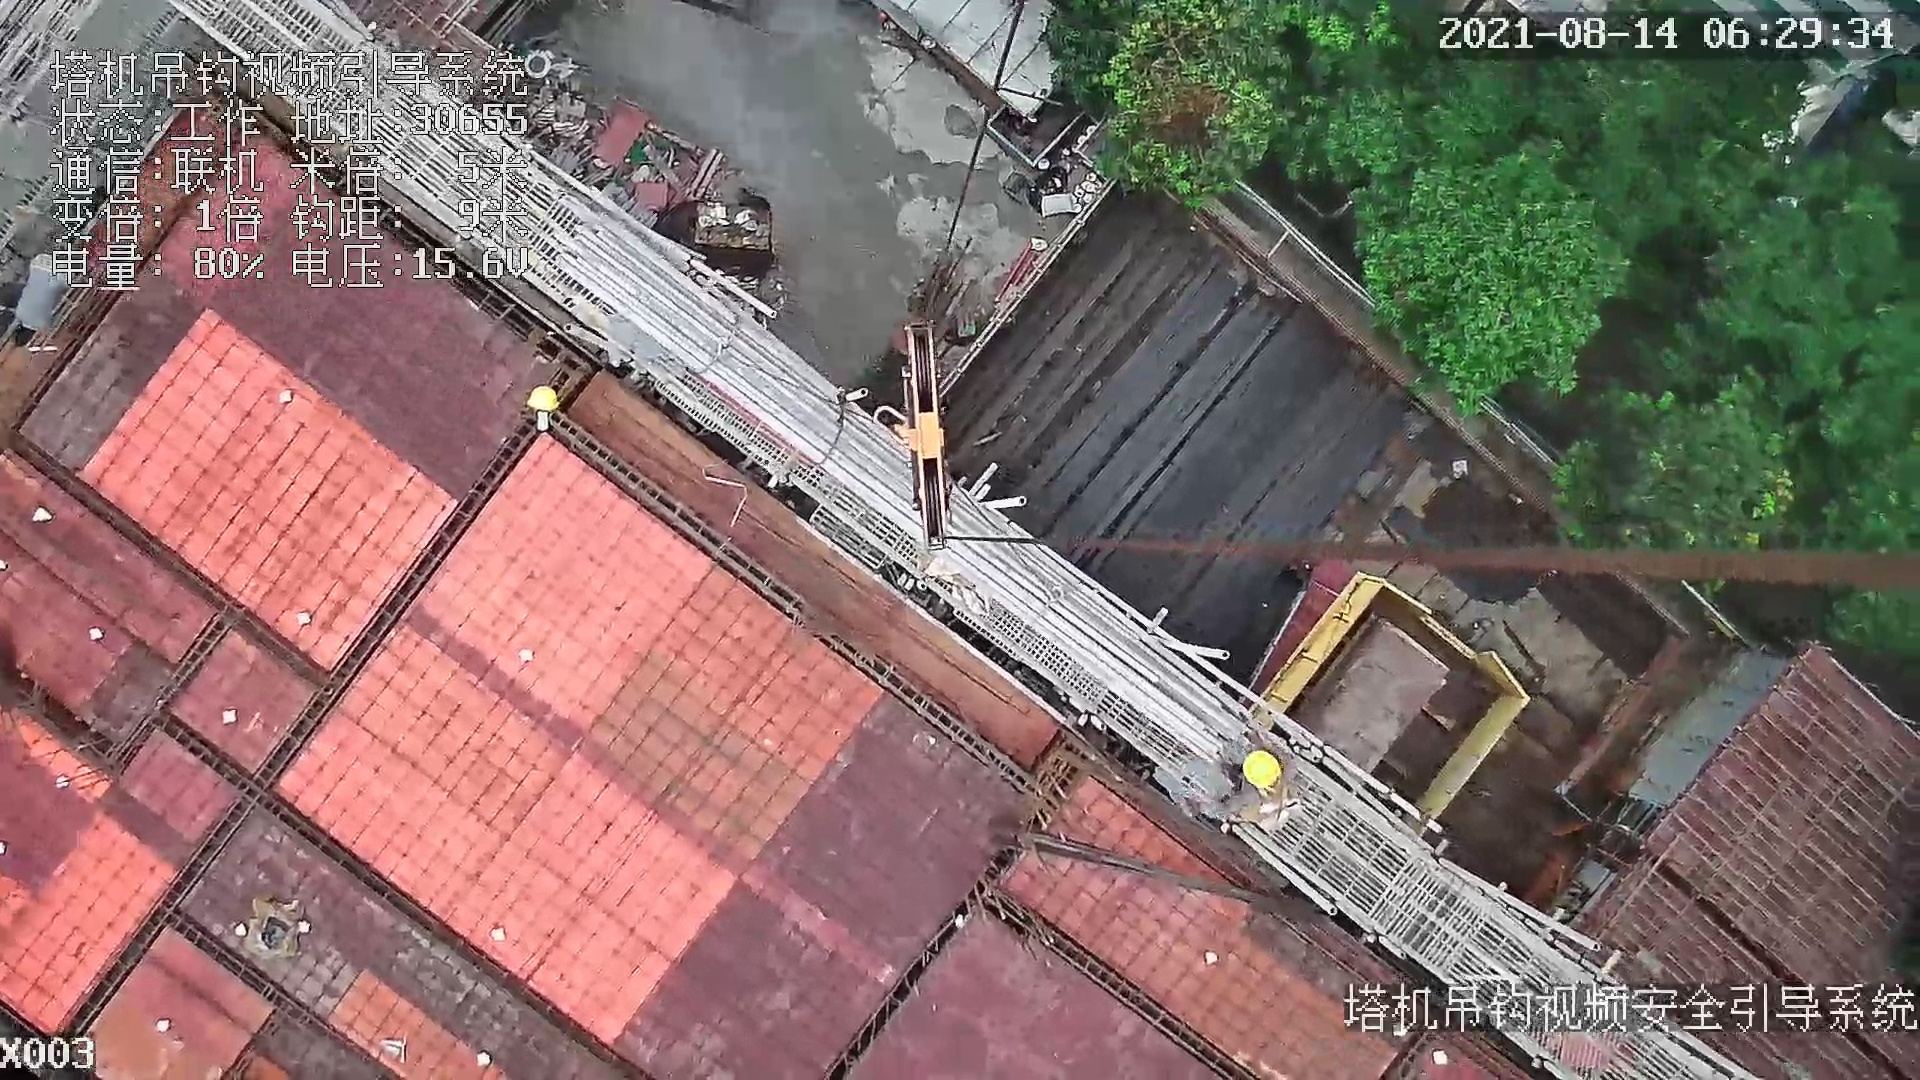helmet: (1240, 750, 1287, 790), (526, 382, 563, 413)
hook: (895, 322, 953, 554)
person: (1194, 736, 1310, 851)
rebar: (963, 199, 1405, 663)
